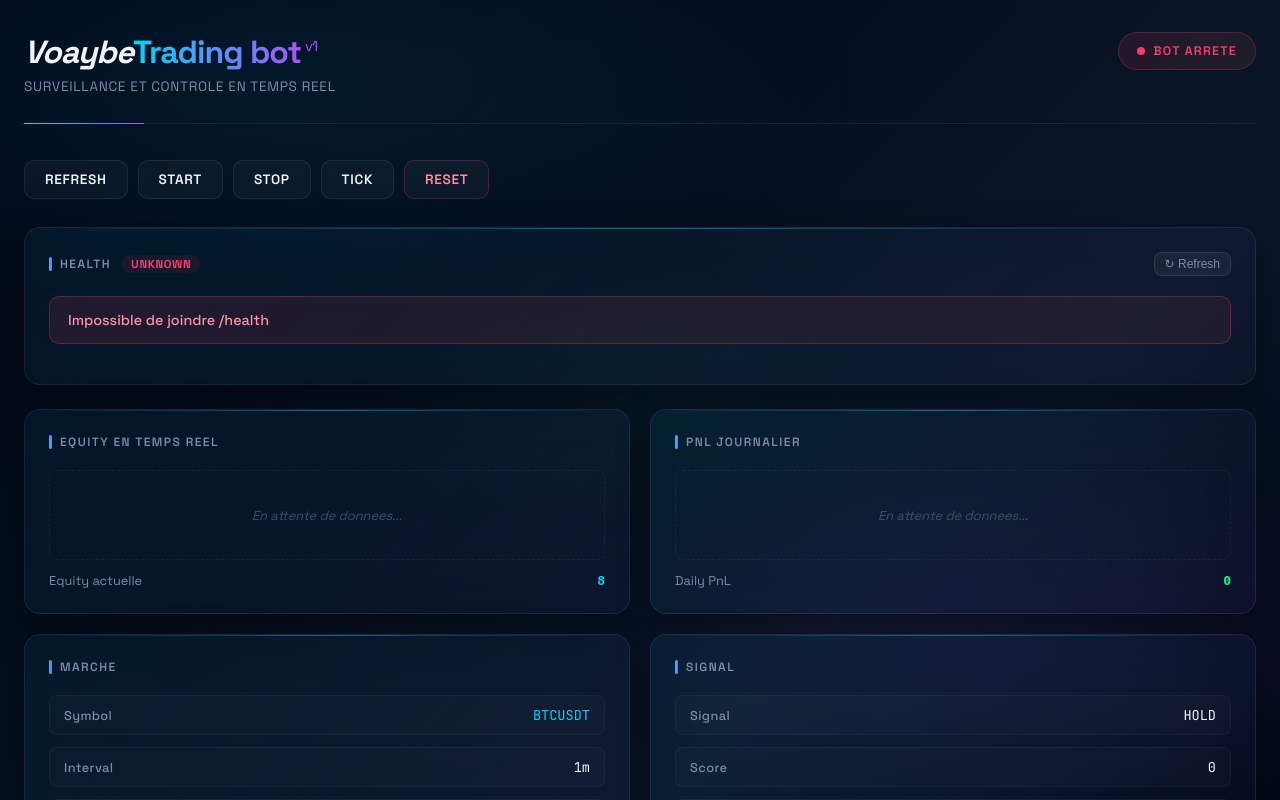
Test: Gestion d'erreurs › affiche un message d'erreur si startBot échoue
Step 1. Click the button "Start" → (180, 180), box [138,160,223,199]
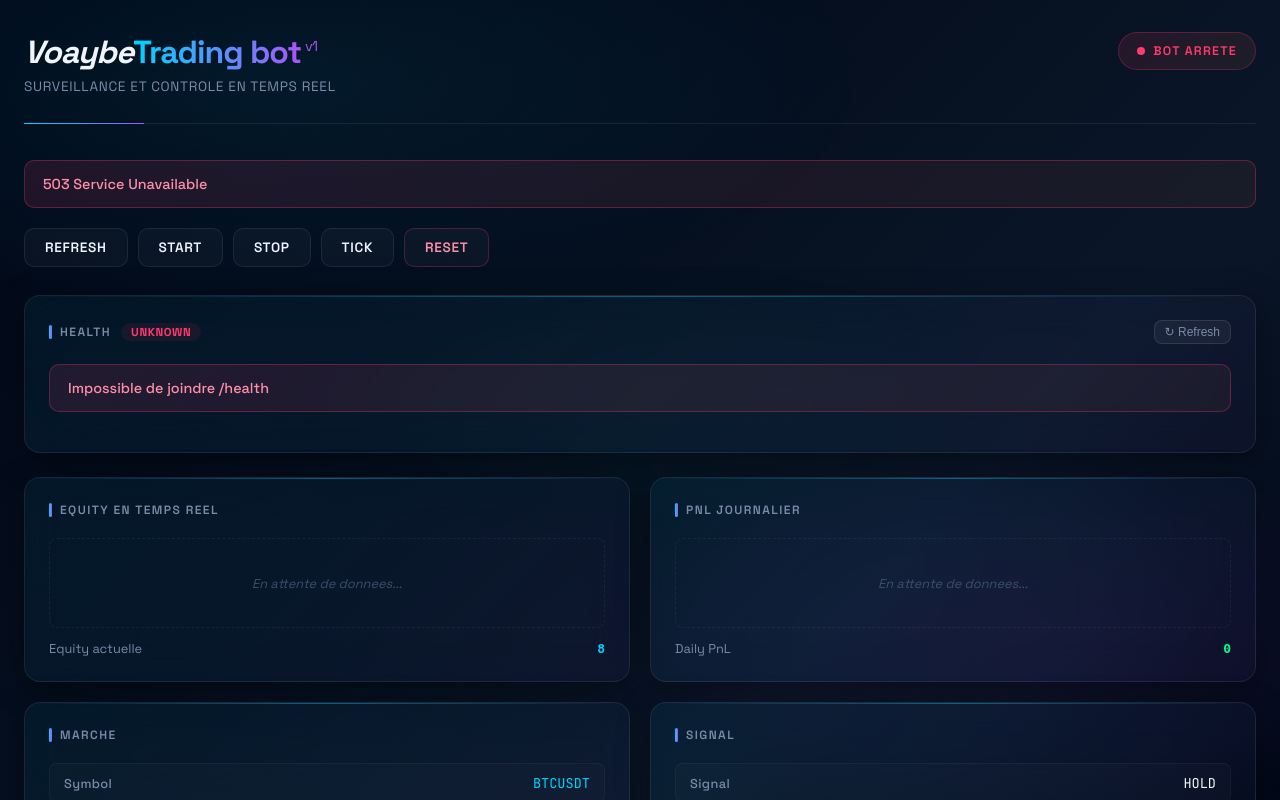
expect the text "503 Service Unavailable" is shown: met, box [24,160,1256,208]
